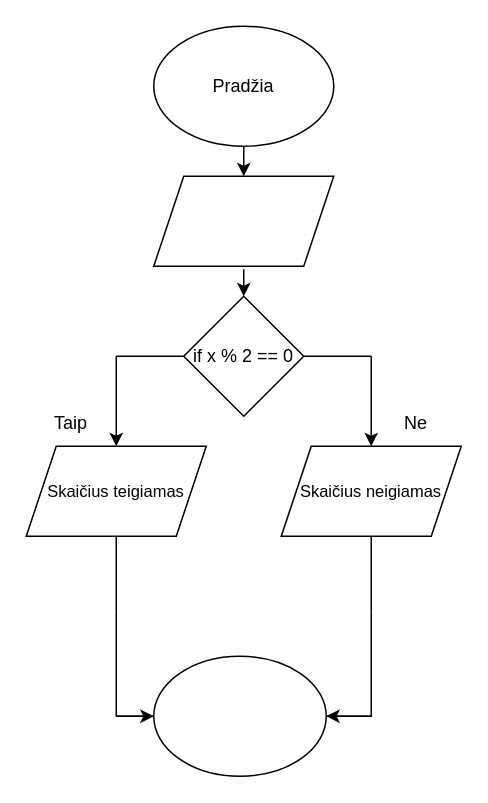
This 488x803 diagram has some shape labels left out. Each missing label, with the centre of its shape:
"Pabaiga" goes at pixel 239 715.
"Įvesti x" goes at pixel 243 220.
